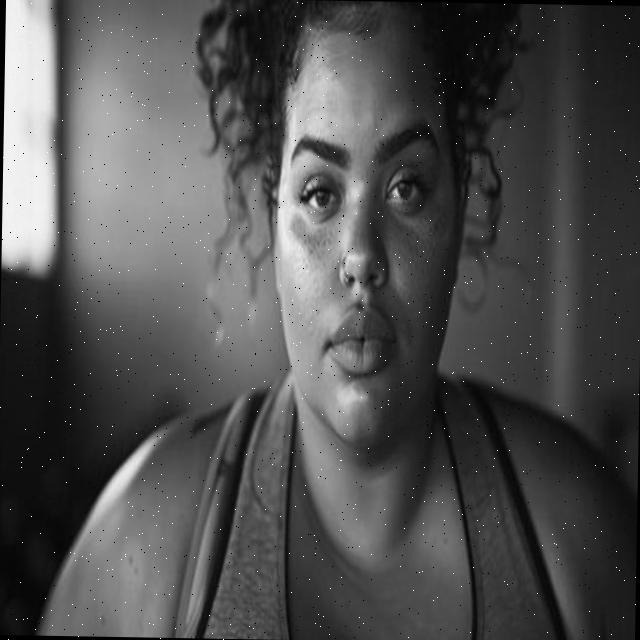Neutral: (273, 31, 458, 448)
